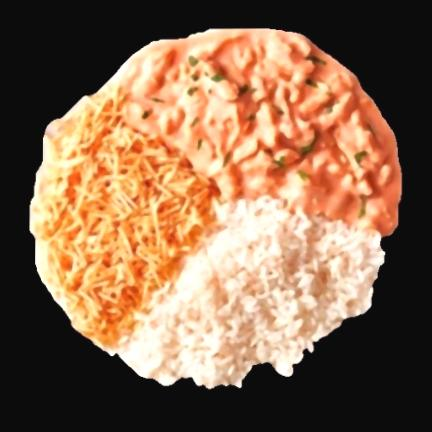chicken: (122, 28, 400, 234)
potato: (35, 89, 211, 347)
rice: (121, 198, 384, 387)
